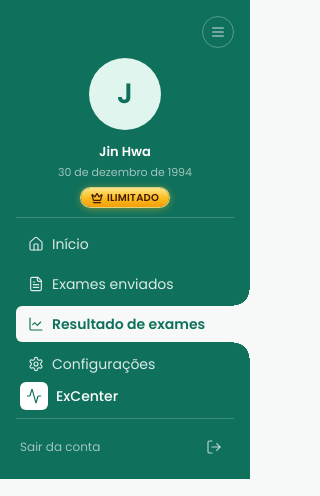
Test: SidebarShell — menu minimizável no desktop › minimizar: esconde rótulos, mantém os links acessíveis por aria-label e grava o cookie
Click the button named "Minimizar menu" at {"x": 218, "y": 32}, box top-left (202, 16), bottom-right (234, 48)
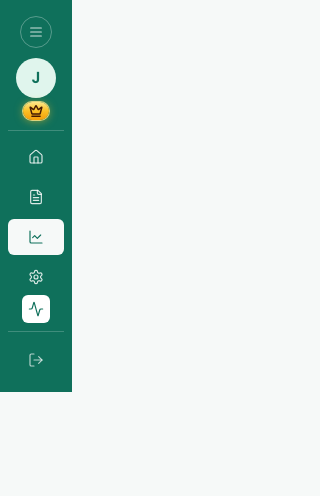
Expected: the link named "Resultado de exames" is shown, top-left (8, 219), bottom-right (64, 255)
Expected: the link "Exames enviados" is gone
Expected: the button named "Expandir menu" is shown, top-left (20, 16), bottom-right (52, 48)
